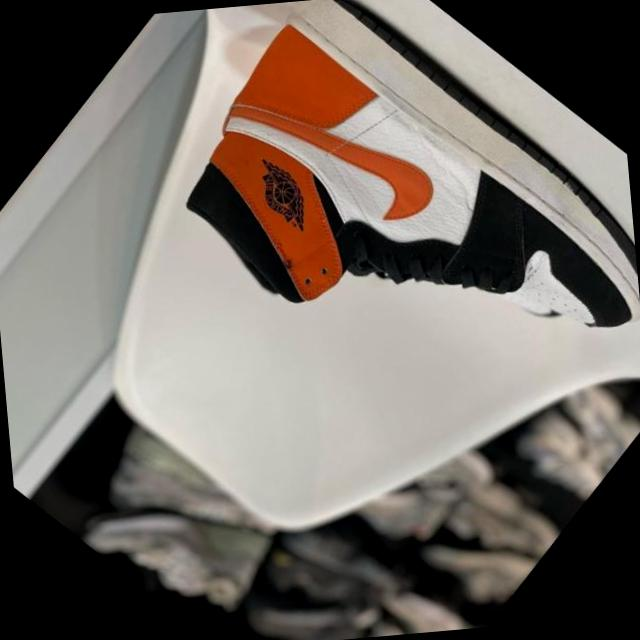nike_fake_jordan: (131, 0, 640, 515)
